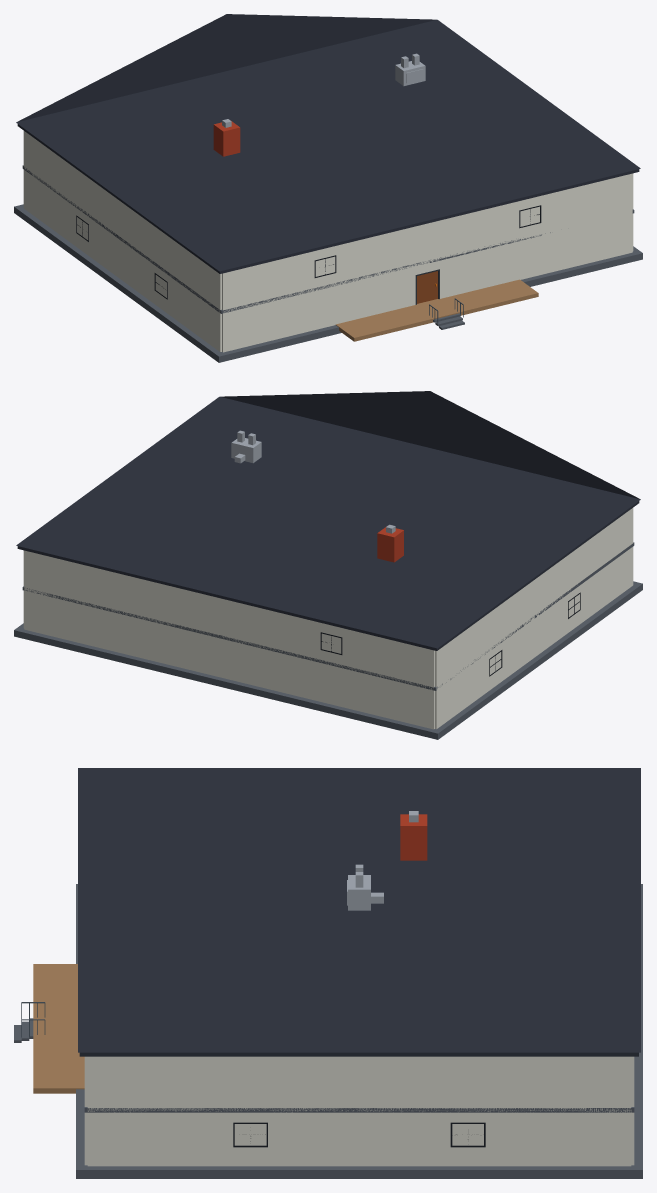
The model's file is bp_proj1_3e69d4ee1381.obj.
The picture shows the model from 3 angles, top to bottom: view 1: azimuth 30°, elevation 25°; view 2: azimuth 150°, elevation 25°; view 3: azimuth 270°, elevation 25°; orthographic projection. The views are drawn at different scales.
Parts seen in each view (by area): view 1: Roof_Gable_Pitch, Ext_Wall_South_2F, Ext_Wall_West, Ext_Wall_South_L, Ext_Wall_South_R, Ext_Wall_West_2F, Foundation_Slab, Porch_Deck, Roof_Cap_Base, Second_Floor_Slab, Masonry_Chimney, Main_Front_Door_Panel; view 2: Roof_Gable_Pitch, Ext_Wall_North, Ext_Wall_North_2F, Ext_Wall_West, Ext_Wall_West_2F, Foundation_Slab, Roof_Cap_Base, Second_Floor_Slab, Masonry_Chimney, Roof_Ridge_Vent_HVAC_Unit; view 3: Roof_Gable_Pitch, Ext_Wall_East, Ext_Wall_East_2F, Foundation_Slab, Porch_Deck, Roof_Cap_Base, Second_Floor_Slab, Masonry_Chimney, Roof_Ridge_Vent_HVAC_Unit.
Part boxes in pixels (<box>): Roof_Gable_Pitch: <box>16,14,640,271</box>; Ext_Wall_South_2F: <box>222,173,632,311</box>; Ext_Wall_West: <box>23,169,221,351</box>; Ext_Wall_South_L: <box>222,265,415,352</box>; Ext_Wall_South_R: <box>440,212,632,298</box>; Ext_Wall_West_2F: <box>23,131,221,310</box>; Foundation_Slab: <box>14,204,642,362</box>; Porch_Deck: <box>335,279,538,341</box>; Roof_Cap_Base: <box>17,124,639,273</box>; Second_Floor_Slab: <box>22,165,634,313</box>; Masonry_Chimney: <box>213,121,240,156</box>; Main_Front_Door_Panel: <box>417,271,437,303</box>; Roof_Gable_Pitch: <box>16,391,640,648</box>; Ext_Wall_North: <box>24,589,434,729</box>; Ext_Wall_North_2F: <box>24,550,434,688</box>; Ext_Wall_West: <box>435,547,633,728</box>; Ext_Wall_West_2F: <box>435,508,633,688</box>; Foundation_Slab: <box>14,581,642,739</box>; Roof_Cap_Base: <box>17,501,639,650</box>; Second_Floor_Slab: <box>22,542,634,690</box>; Masonry_Chimney: <box>377,526,403,562</box>; Roof_Ridge_Vent_HVAC_Unit: <box>231,438,261,463</box>; Roof_Gable_Pitch: <box>78,768,640,1052</box>; Ext_Wall_East: <box>87,1110,631,1166</box>; Ext_Wall_East_2F: <box>87,1056,631,1110</box>; Foundation_Slab: <box>76,884,642,1178</box>; Porch_Deck: <box>33,964,84,1093</box>; Roof_Cap_Base: <box>79,1052,638,1056</box>; Second_Floor_Slab: <box>84,1107,634,1112</box>; Masonry_Chimney: <box>400,814,427,860</box>; Roof_Ridge_Vent_HVAC_Unit: <box>348,875,370,910</box>.
Size of the model in its own units: 35 by 13.06 by 32.5.
